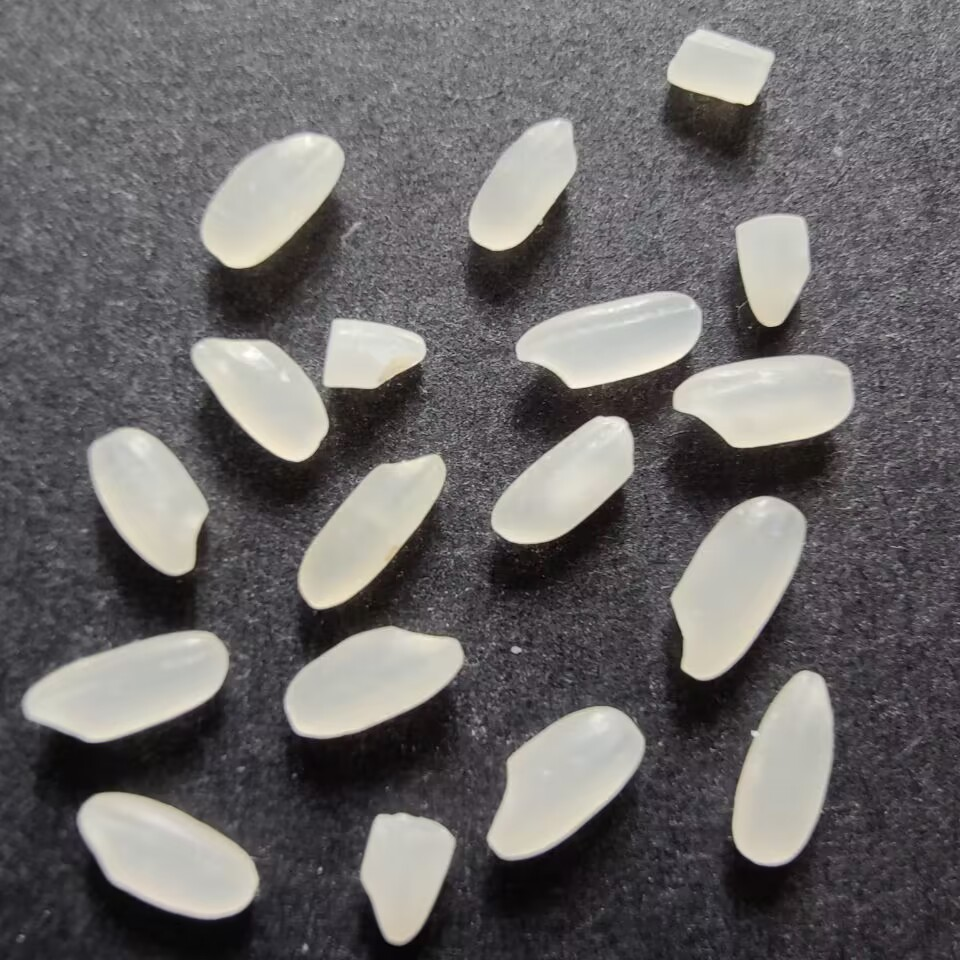broken: (353, 808, 460, 952), (730, 212, 815, 332), (660, 23, 780, 107), (316, 316, 428, 394)
rice: (666, 494, 811, 685), (484, 701, 647, 862), (16, 626, 232, 746), (293, 446, 449, 611), (74, 790, 261, 922), (275, 619, 469, 745), (728, 667, 839, 868), (510, 284, 705, 393), (196, 132, 346, 273), (487, 411, 641, 546), (85, 427, 213, 584), (186, 333, 331, 466), (668, 352, 855, 451), (463, 117, 580, 254)
